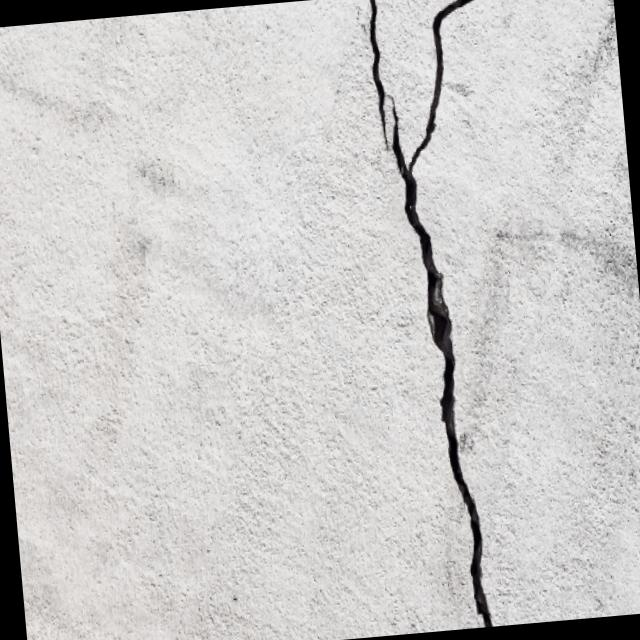crack: (364, 0, 529, 630)
